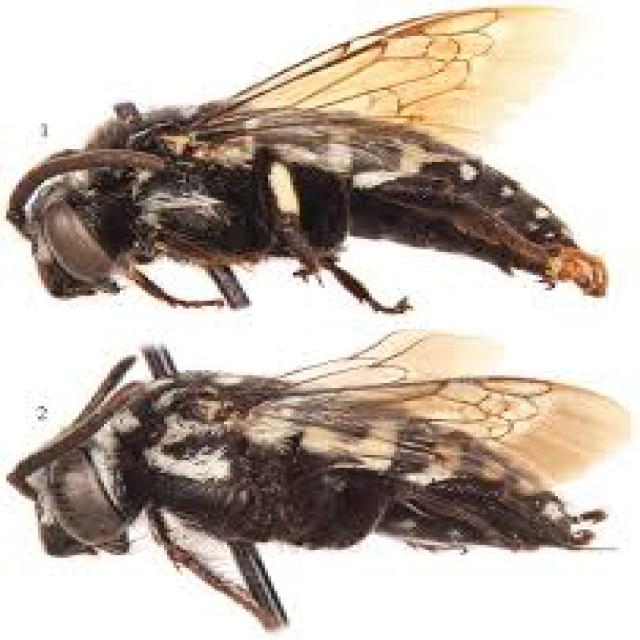Thyreus: (14, 21, 640, 335), (10, 342, 608, 622)
